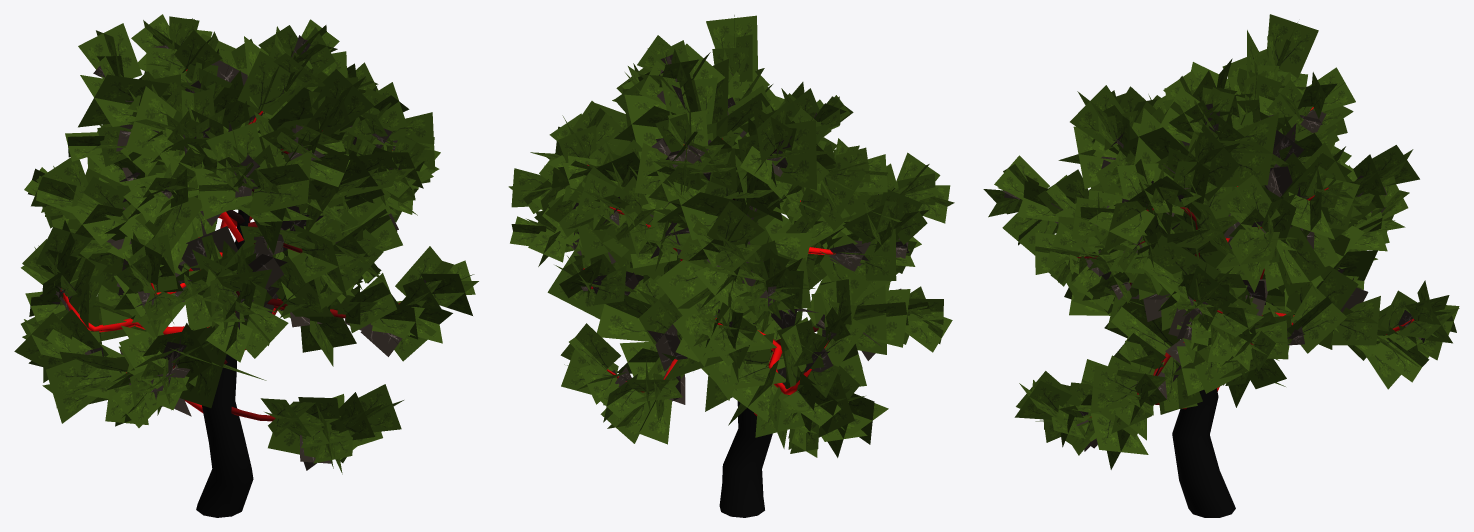
The model's file is oak2 lod0.FBX.
3 renders of one model, left to right at view 1: azimuth 30°, elevation 25°; view 2: azimuth 150°, elevation 25°; view 3: azimuth 270°, elevation 25°, orthographic. The views are drawn at different scales.
Visible parts, largest first — view 1: oak2; view 2: oak2; view 3: oak2.
Part boxes in pixels (left/top/right/bottom): oak2: left=14, top=14, right=478, bottom=517; oak2: left=508, top=15, right=954, bottom=517; oak2: left=983, top=14, right=1459, bottom=517.
Bounding box in the file's own units: 105000 × 118777 × 112087.
